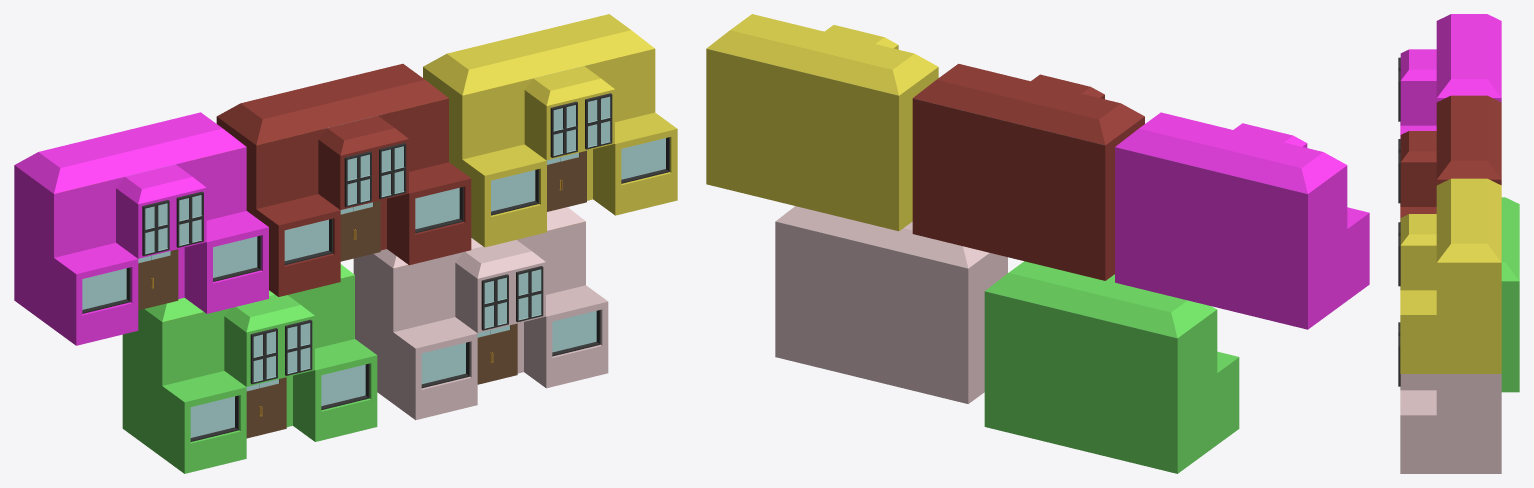
Rendered from House.fbx.
The picture shows the model from 3 angles, left to right: view 1: azimuth 30°, elevation 25°; view 2: azimuth 150°, elevation 25°; view 3: azimuth 270°, elevation 25°; orthographic projection. The views are drawn at different scales.
Parts seen in each view (by area): view 1: Cube.004, Cube.003, Cube.002, Cube, Cube.001; view 2: Cube.004, Cube, Cube.003, Cube.002, Cube.001; view 3: Cube.003, Cube.001, Cube.002, Cube.004, Cube.
Boxes of the visible parts, x1,y1,x2,y2 form: Cube.004: (14, 112, 268, 345); Cube.003: (423, 14, 677, 247); Cube.002: (216, 63, 471, 296); Cube: (122, 264, 377, 473); Cube.001: (353, 207, 608, 420); Cube.004: (1115, 112, 1369, 329); Cube: (984, 261, 1239, 473); Cube.003: (706, 14, 938, 231); Cube.002: (912, 63, 1144, 280); Cube.001: (775, 206, 1007, 403); Cube.003: (1398, 178, 1501, 373); Cube.001: (1398, 322, 1501, 473); Cube.002: (1398, 95, 1501, 221); Cube.004: (1398, 14, 1501, 138); Cube: (1501, 197, 1519, 392).
Size of the model in its own units: 7959 by 4005 by 1694.
